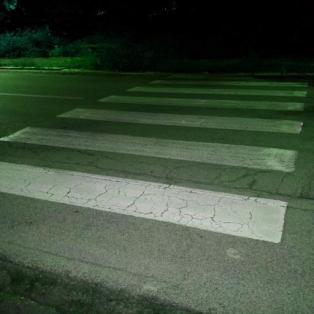Paso de Cebra: (54, 92, 310, 140)
